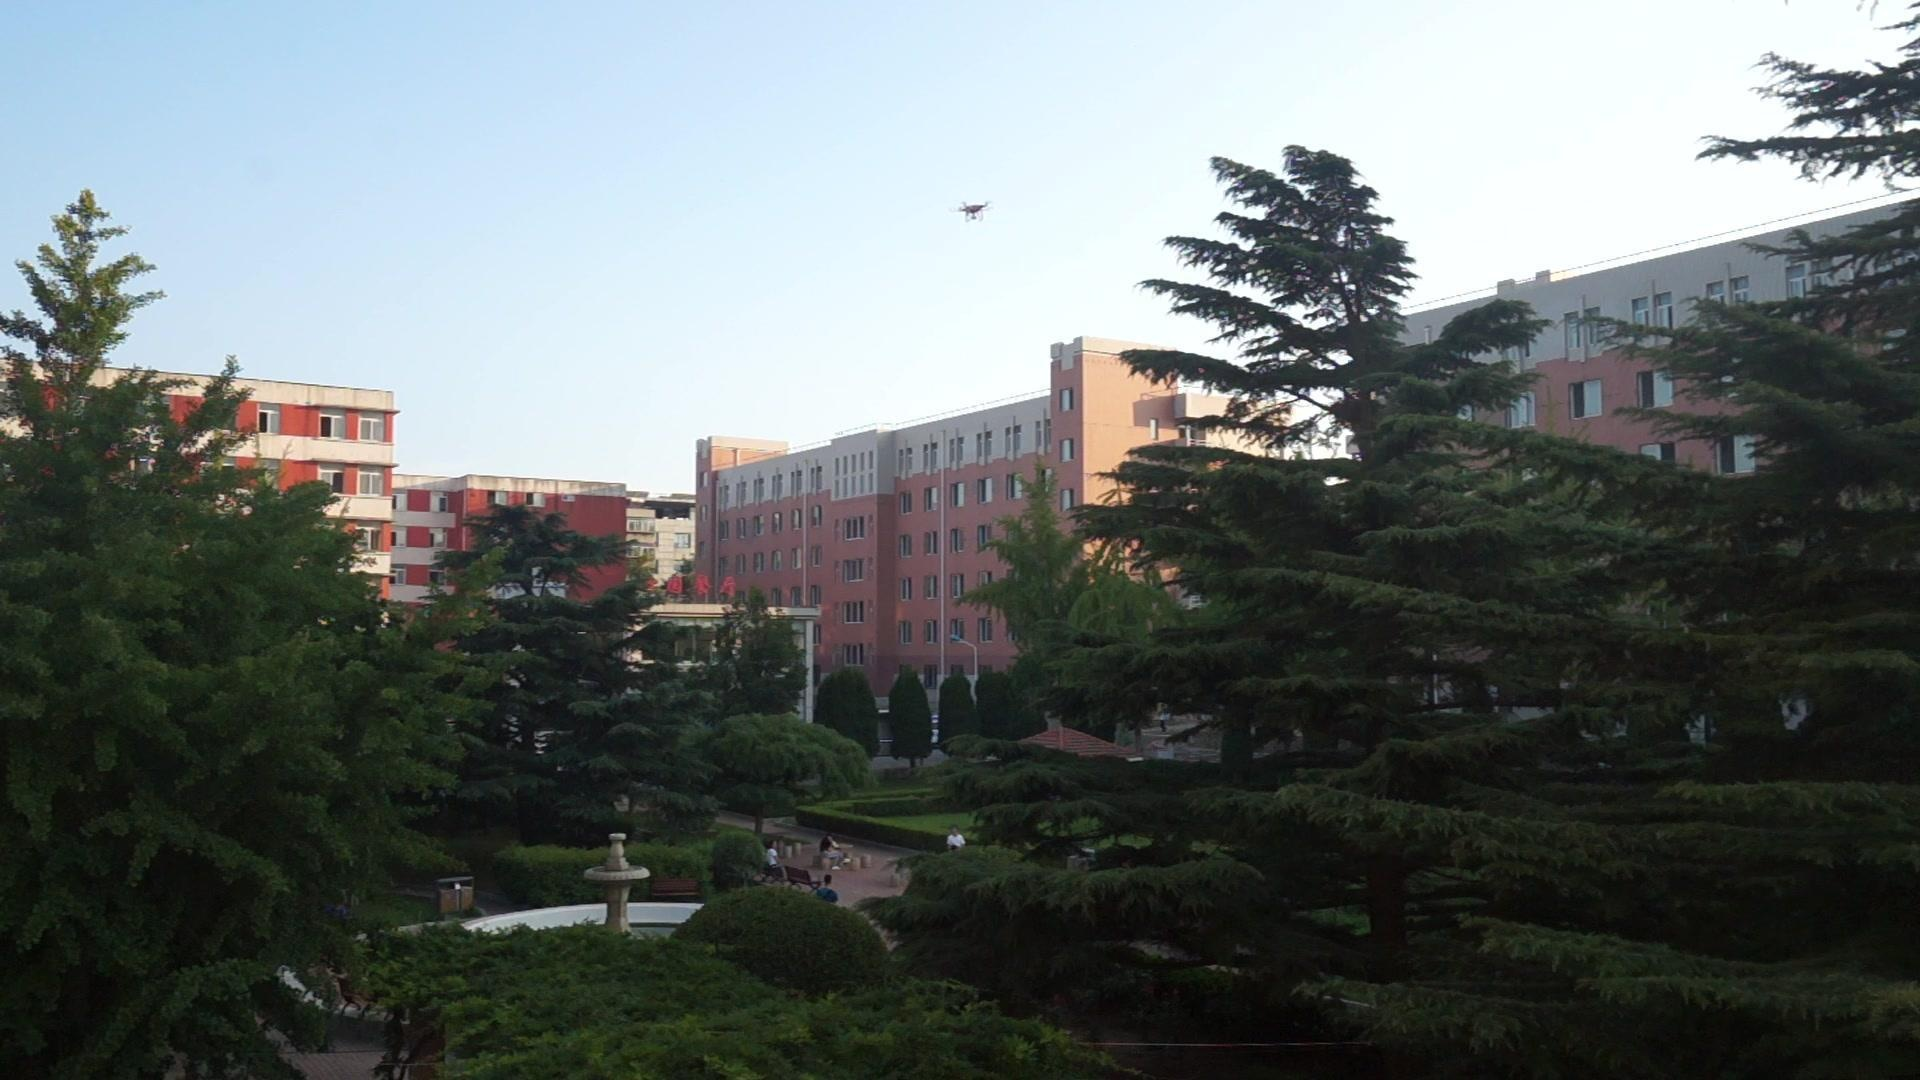UAV: (949, 202, 996, 223)
